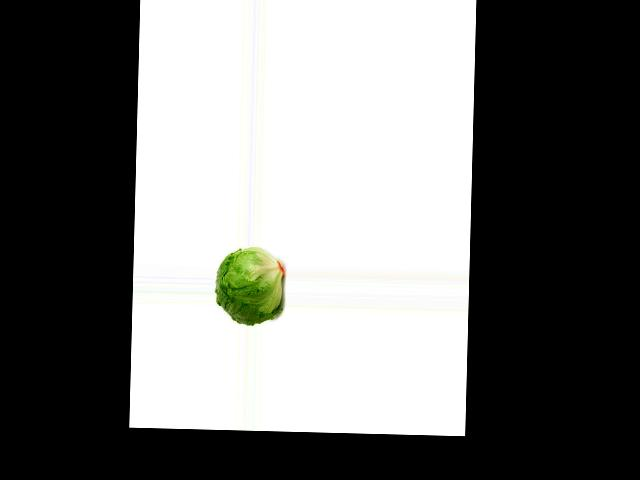lettuce: (214, 250, 283, 325)
